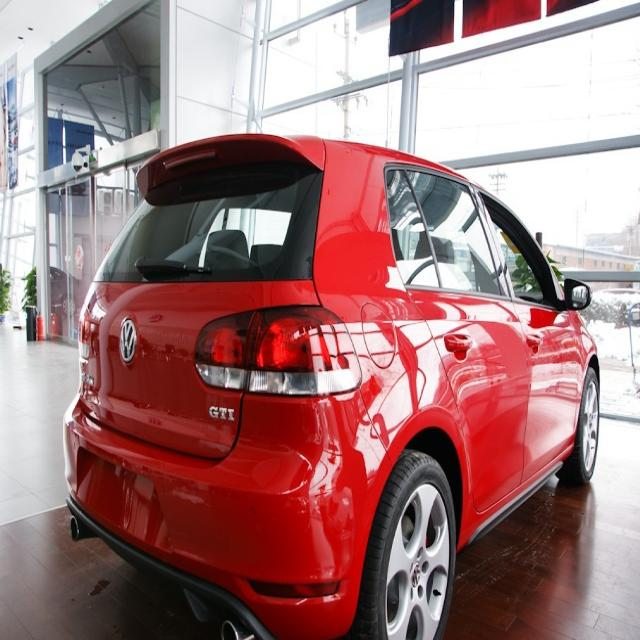back_glass: (93, 139, 326, 294)
back_left_side_light: (70, 298, 101, 369)
back_right_side_light: (188, 303, 372, 407)
door: (389, 168, 527, 523)
front_right_side_door: (472, 178, 584, 505)
front_right_side_mirror: (558, 272, 596, 317)
rear_bumper: (61, 394, 367, 636)
wheel: (348, 440, 471, 637), (562, 344, 614, 490)
